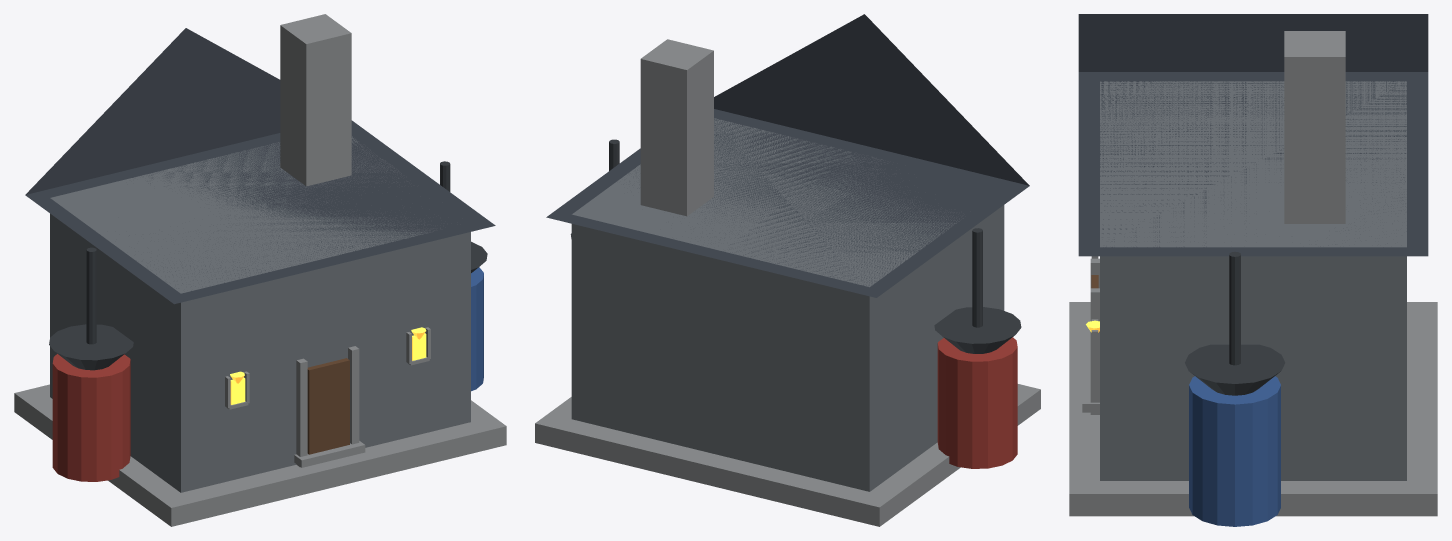
File: alchemist.glb
3 views of the same model, side by side, from view 1: azimuth 30°, elevation 25°; view 2: azimuth 150°, elevation 25°; view 3: azimuth 270°, elevation 25° (orthographic). The views are drawn at different scales.
Visible parts, largest first — view 1: Walls, Roof, Foundation, Chimney, Tank0, Door, TankTop0, Tank1, DoorFrameL, Pipe0, DoorFrameR, Threshold; view 2: Walls, Roof, Foundation, Chimney, Tank0, TankTop0, Pipe0; view 3: Walls, Roof, Foundation, Tank1, Chimney, TankTop1, Pipe1, DoorFrameR, Threshold.
Part boxes in pixels (box(x1,y1,x2,y2)): Walls: box(50, 136, 470, 492); Roof: box(25, 28, 495, 304); Foundation: box(14, 384, 506, 526); Chimney: box(280, 14, 351, 186); Tank0: box(52, 354, 130, 481); Door: box(307, 358, 349, 454); TankTop0: box(49, 324, 133, 370); Tank1: box(471, 267, 483, 391); DoorFrameL: box(296, 358, 307, 467); Pipe0: box(86, 247, 96, 344); DoorFrameR: box(348, 346, 359, 444); Threshold: box(294, 441, 365, 467); Walls: box(571, 118, 1004, 491); Roof: box(546, 14, 1029, 297); Foundation: box(535, 384, 1040, 526); Chimney: box(640, 39, 713, 216); Tank0: box(937, 337, 1017, 468); TankTop0: box(934, 307, 1021, 353); Pipe0: box(972, 228, 982, 327); Walls: box(1100, 81, 1406, 480); Roof: box(1078, 14, 1428, 256); Foundation: box(1069, 302, 1437, 516); Tank1: box(1189, 376, 1280, 526); Chimney: box(1284, 31, 1345, 223); TankTop1: box(1185, 344, 1285, 395); Pipe1: box(1229, 251, 1240, 365); DoorFrameR: box(1090, 288, 1099, 414); Threshold: box(1082, 367, 1099, 412).
Bounding box in the file's own units: 9.44 × 7.6 × 6.
